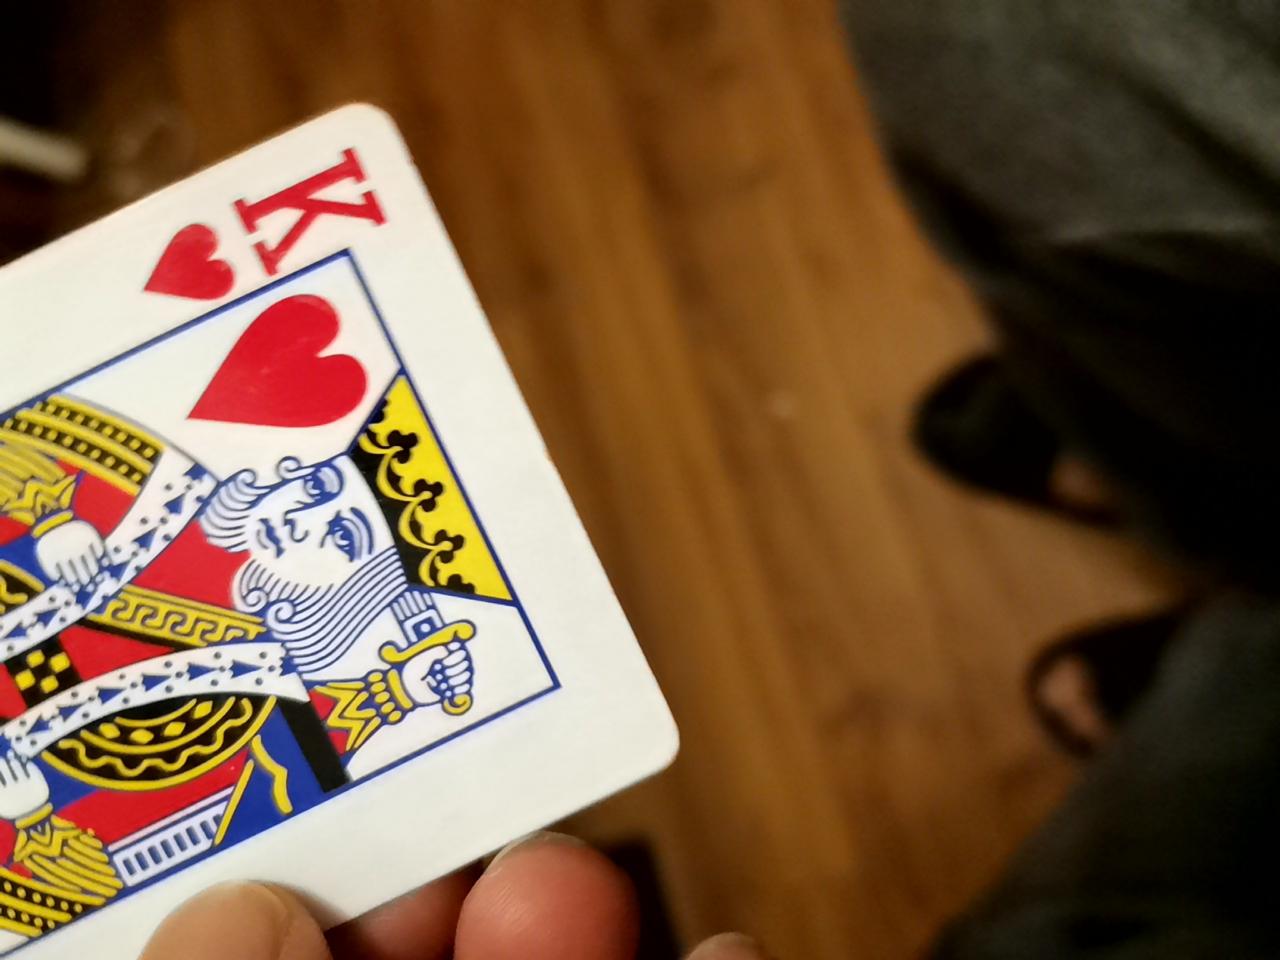hx k: (13, 81, 694, 960)
